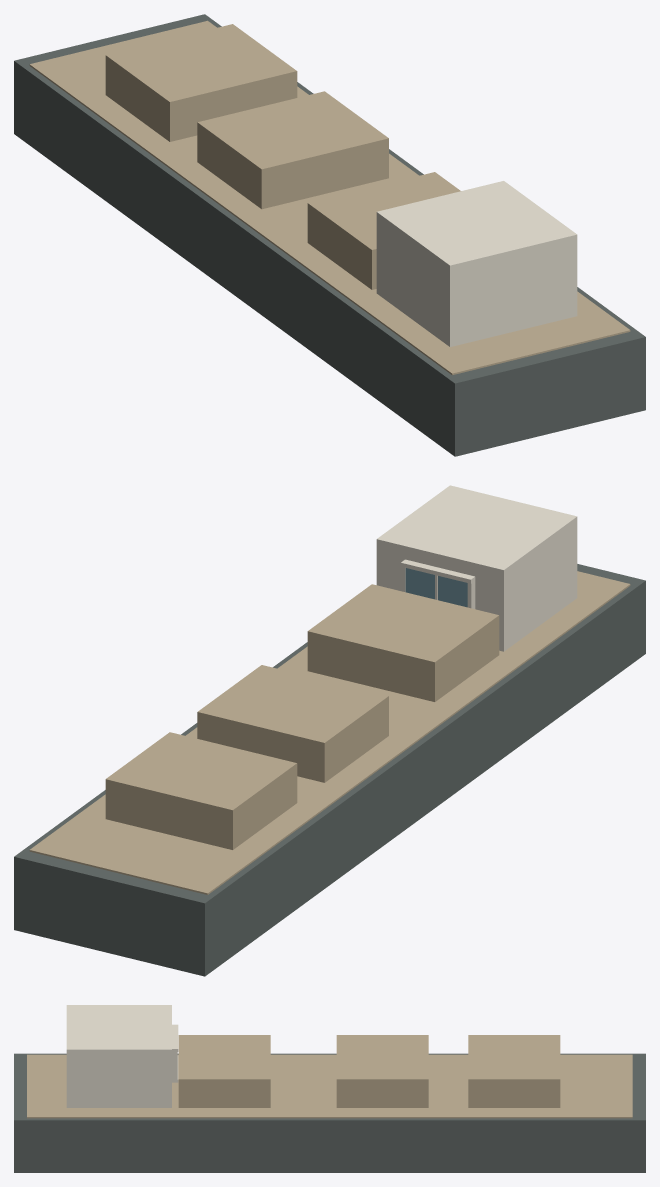
The model's file is rhine-barge_lod0.glb.
3 views of the same model, one above another, from view 1: azimuth 30°, elevation 25°; view 2: azimuth 150°, elevation 25°; view 3: azimuth 270°, elevation 25° (orthographic). The views are drawn at different scales.
Visible parts, largest first — view 1: RF_Hull, RF_BargeCabin, RF_Deck, RF_CargoCrate.002, RF_CargoCrate, RF_CargoCrate.001; view 2: RF_Hull, RF_Deck, RF_BargeCabin, RF_CargoCrate.001, RF_CargoCrate, RF_CargoCrate.002, RF_Window; view 3: RF_Hull, RF_Deck, RF_BargeCabin, RF_CargoCrate.001, RF_CargoCrate.002, RF_CargoCrate.
Part boxes in pixels (box(x1,y1,x2,y2)): RF_Hull: box(14, 14, 645, 456); RF_BargeCabin: box(376, 181, 577, 346); RF_Deck: box(29, 20, 630, 375); RF_CargoCrate.002: box(197, 91, 388, 209); RF_CargoCrate: box(105, 24, 297, 141); RF_CargoCrate.001: box(307, 172, 460, 289); RF_Hull: box(14, 564, 645, 976); RF_Deck: box(29, 571, 630, 894); RF_BargeCabin: box(376, 485, 577, 651); RF_CargoCrate.001: box(307, 584, 499, 701); RF_CargoCrate: box(105, 732, 297, 849); RF_CargoCrate.002: box(197, 665, 388, 782); RF_Window: box(405, 568, 467, 607); RF_Hull: box(14, 1053, 645, 1172); RF_Deck: box(27, 1054, 632, 1118); RF_BargeCabin: box(66, 1005, 171, 1107); RF_CargoCrate.001: box(178, 1035, 270, 1107); RF_CargoCrate.002: box(336, 1035, 428, 1107); RF_CargoCrate: box(468, 1035, 560, 1107).
Bounding box in the file's own units: 6 × 4.7 × 24.
